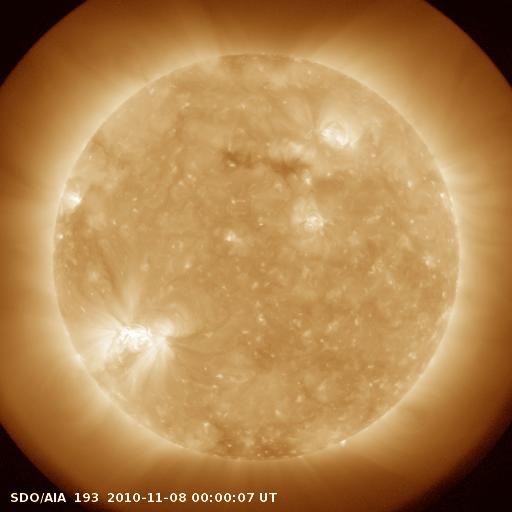coronal_hole: (215, 140, 309, 184)
